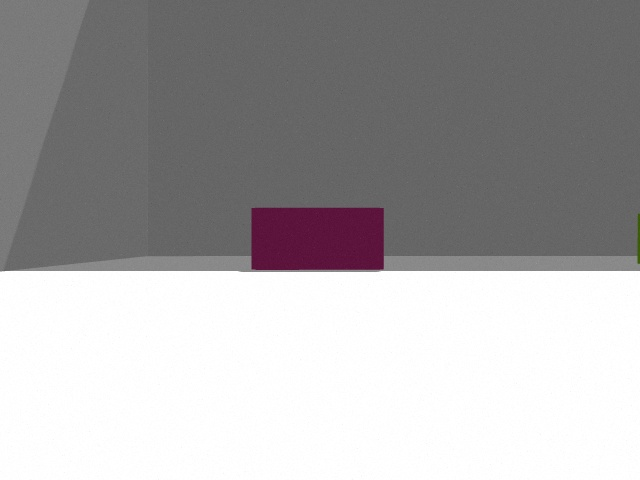red_drop_zone: (251, 208, 384, 270)
